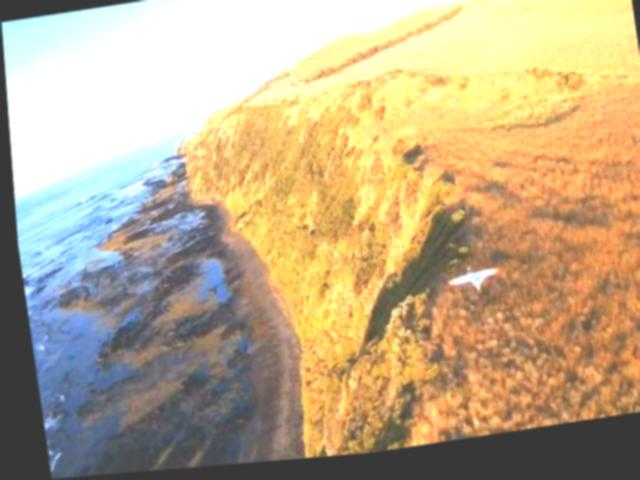uav: (436, 266, 503, 308)
